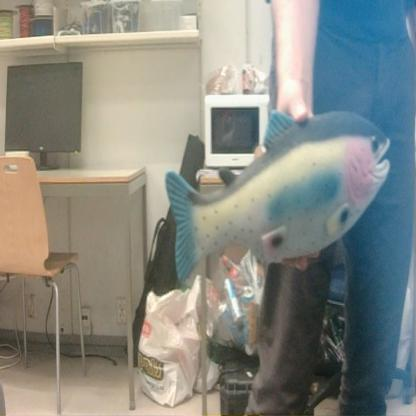rubberfish: (163, 106, 394, 288)
